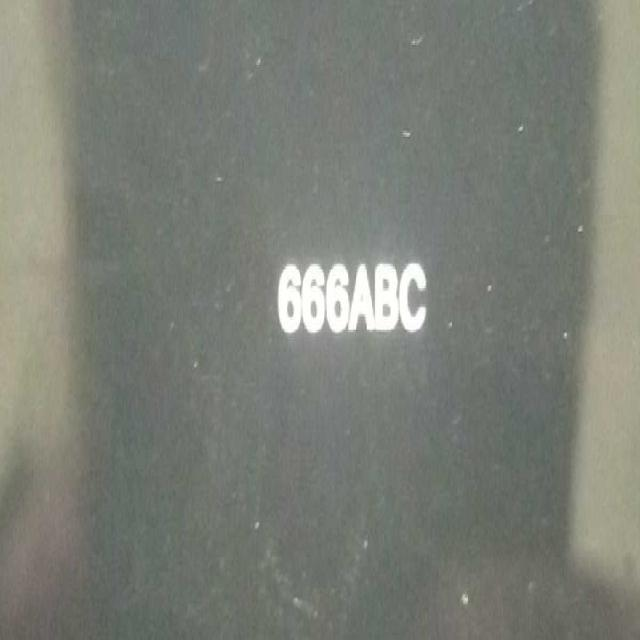license_plate: (273, 242, 434, 352)
